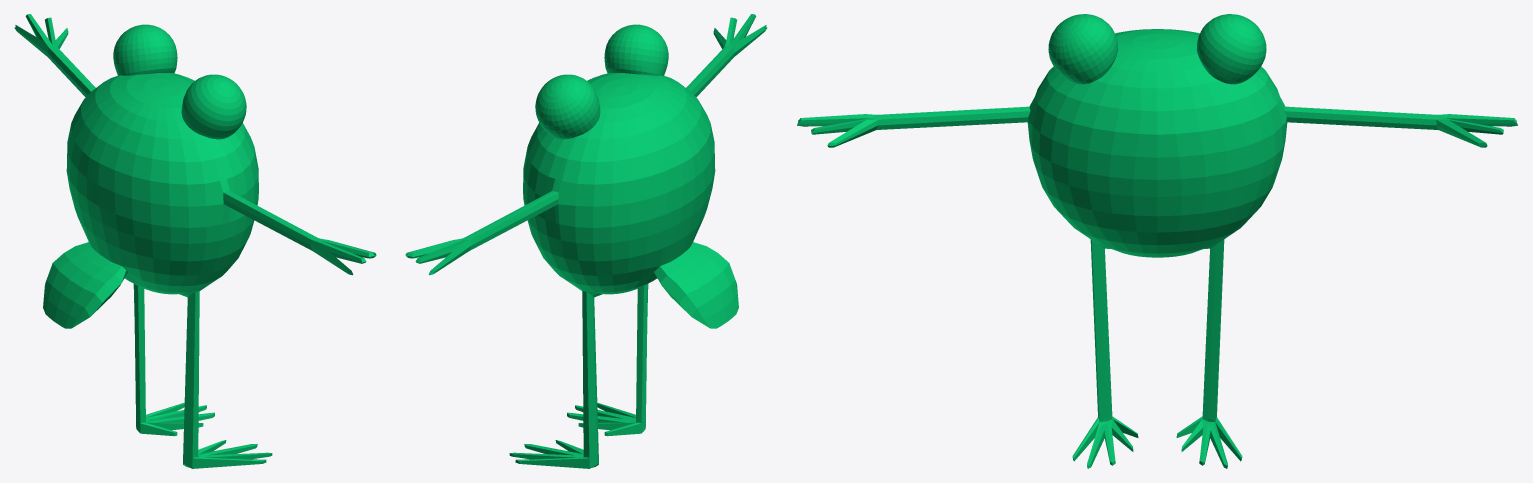
File: かえる1.fbx
3 renders of one model, left to right at view 1: azimuth 30°, elevation 25°; view 2: azimuth 150°, elevation 25°; view 3: azimuth 270°, elevation 25°, orthographic. The views are drawn at different scales.
Parts seen in each view (by area): view 1: Sphere; view 2: Sphere; view 3: Sphere.
Boxes of the visible parts, left/top/right/bottom form: Sphere: left=14, top=14, right=376, bottom=468; Sphere: left=405, top=14, right=767, bottom=468; Sphere: left=797, top=14, right=1517, bottom=468.
Size of the model in its own units: 11.67 by 23.69 by 36.87.
